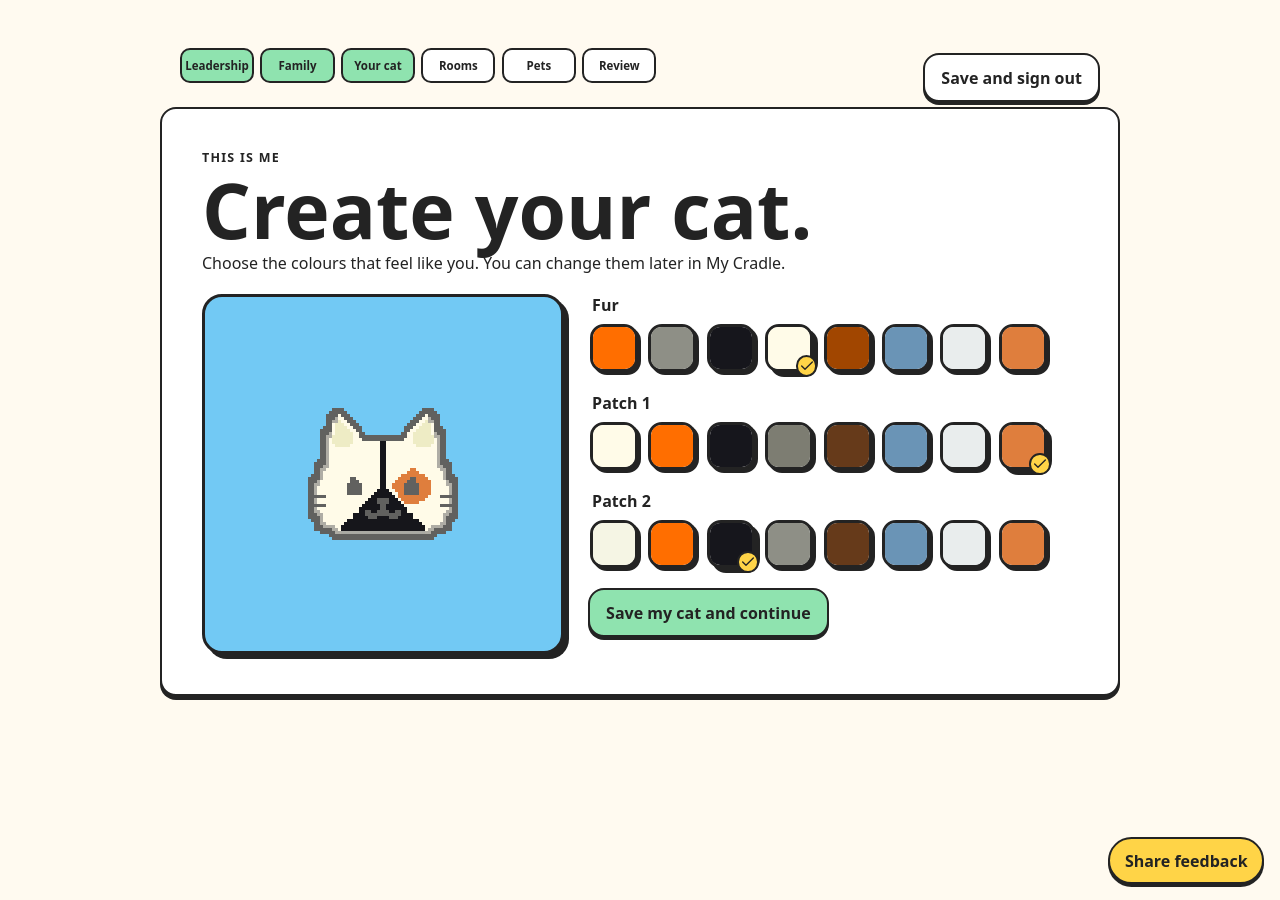
Test: household onboarding › creates the Owner’s member avatar with tactile swatches before Rooms
expect the heading "Create your cat." is shown: met, box [202,172,817,247]
Click the radio button named "Fur: Grey".
click(672, 348)  # box [648,324,696,372]
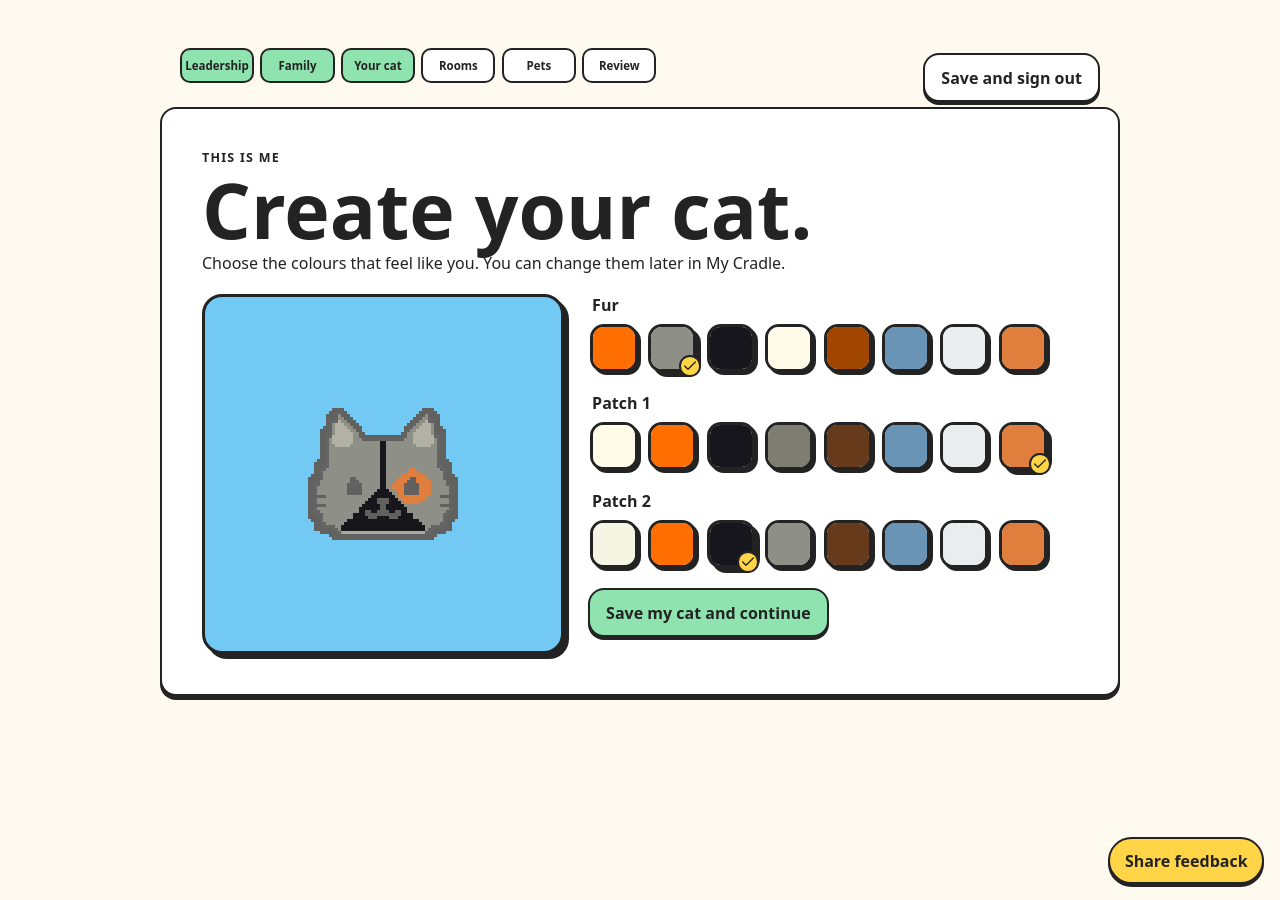
expect the picture named "grey coat" is shown: met, box [287,378,479,570]
Click the button "Save my cat and continue".
click(708, 613)  # box [588,588,829,637]
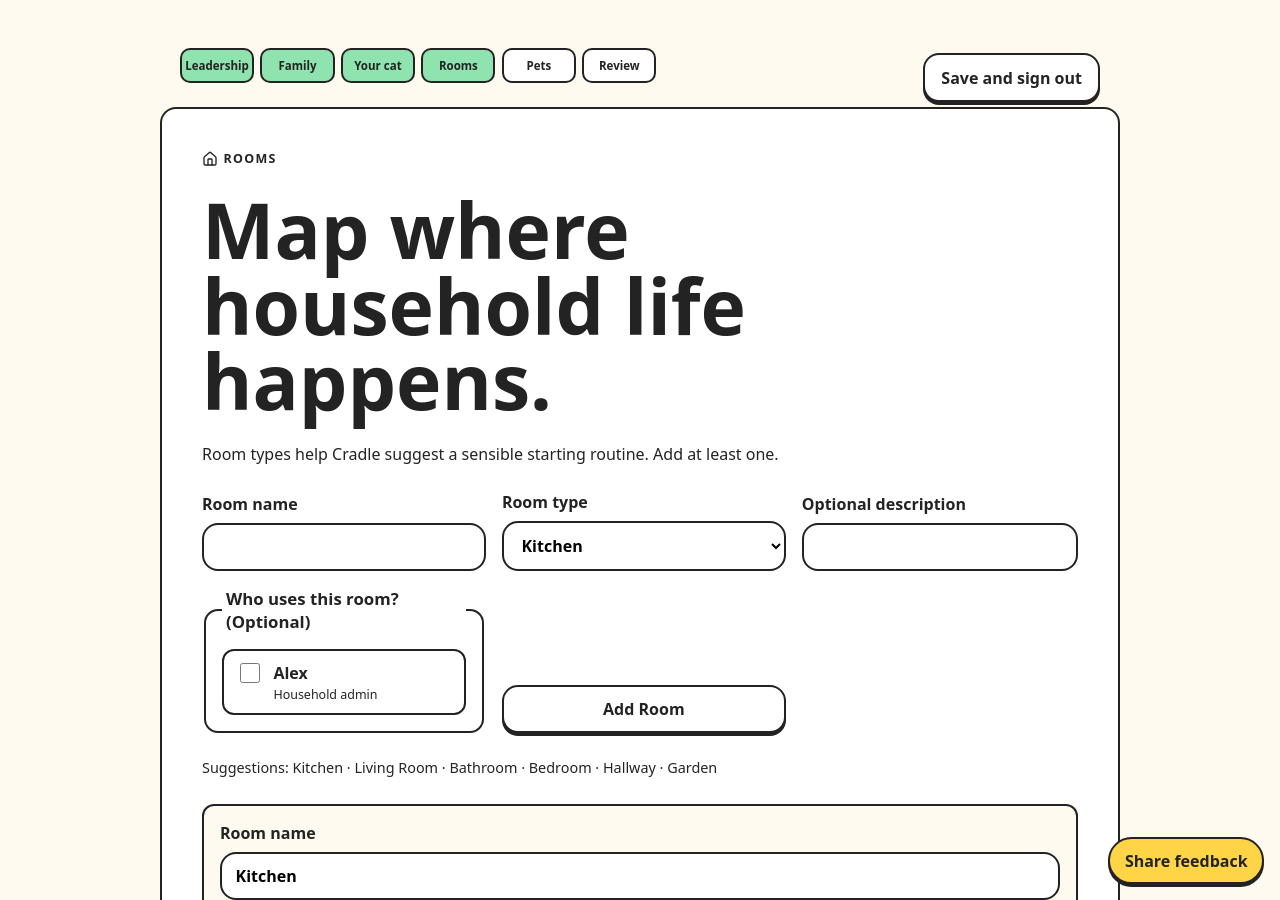
expect the heading "Map where household life happens." is shown: met, box [202,192,817,418]
